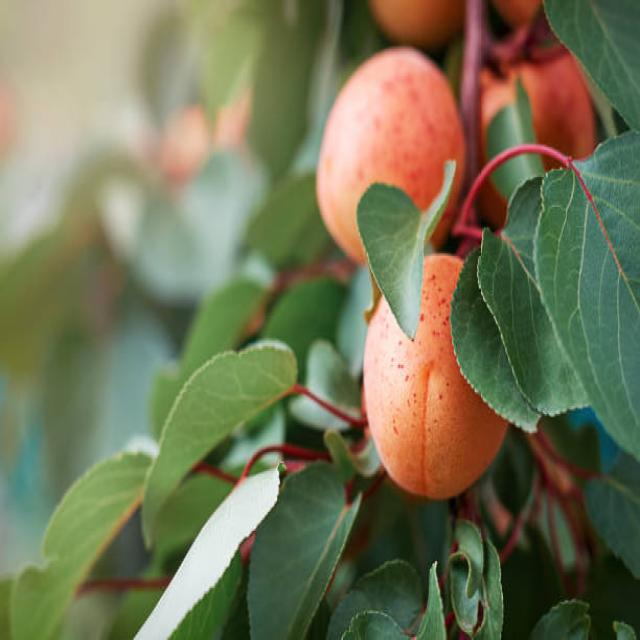kayisi: (366, 324, 456, 496)
kayisi-yapragi: (4, 346, 363, 638), (460, 0, 640, 423)
